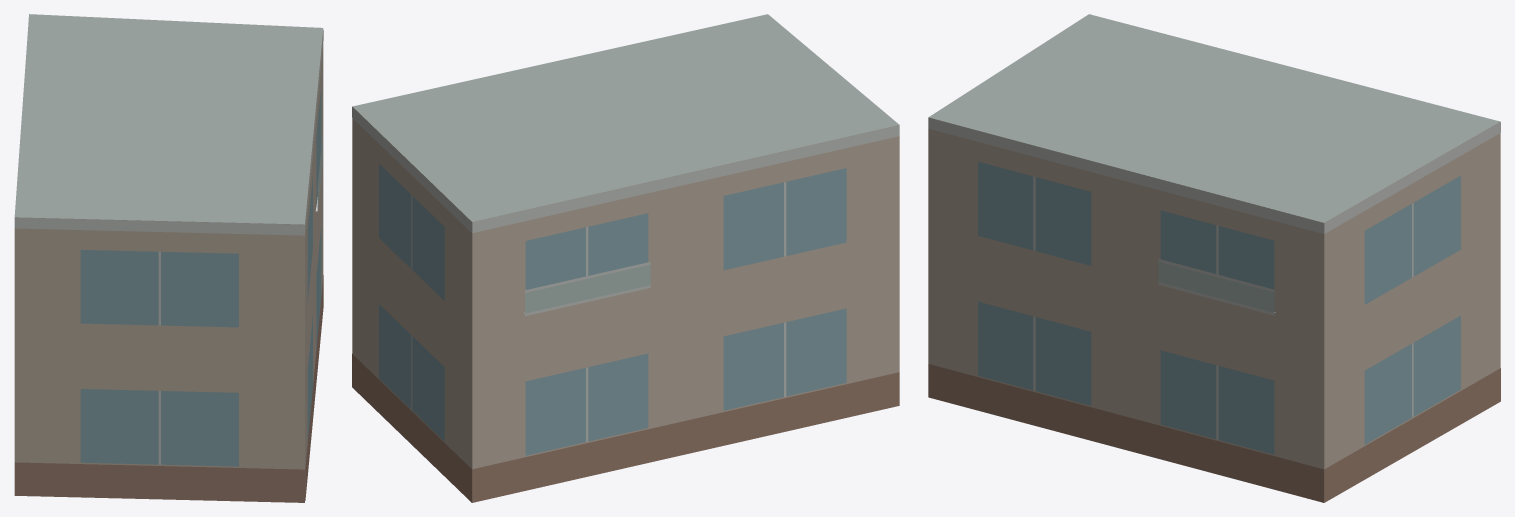
File: survey-upis-32906019.glb
3 renders of one model, left to right at view 1: azimuth 30°, elevation 25°; view 2: azimuth 150°, elevation 25°; view 3: azimuth 270°, elevation 25°, orthographic.
Parts seen in each view (by area): view 1: survey-upis-32906019.tmp; view 2: survey-upis-32906019.tmp; view 3: survey-upis-32906019.tmp.
Boxes of the visible parts, box(x1,y1,x2,y2) form: survey-upis-32906019.tmp: box(14, 14, 323, 502); survey-upis-32906019.tmp: box(352, 14, 899, 502); survey-upis-32906019.tmp: box(928, 14, 1500, 502).
Size of the model in its own units: 9.77 by 6.1 by 11.31.
